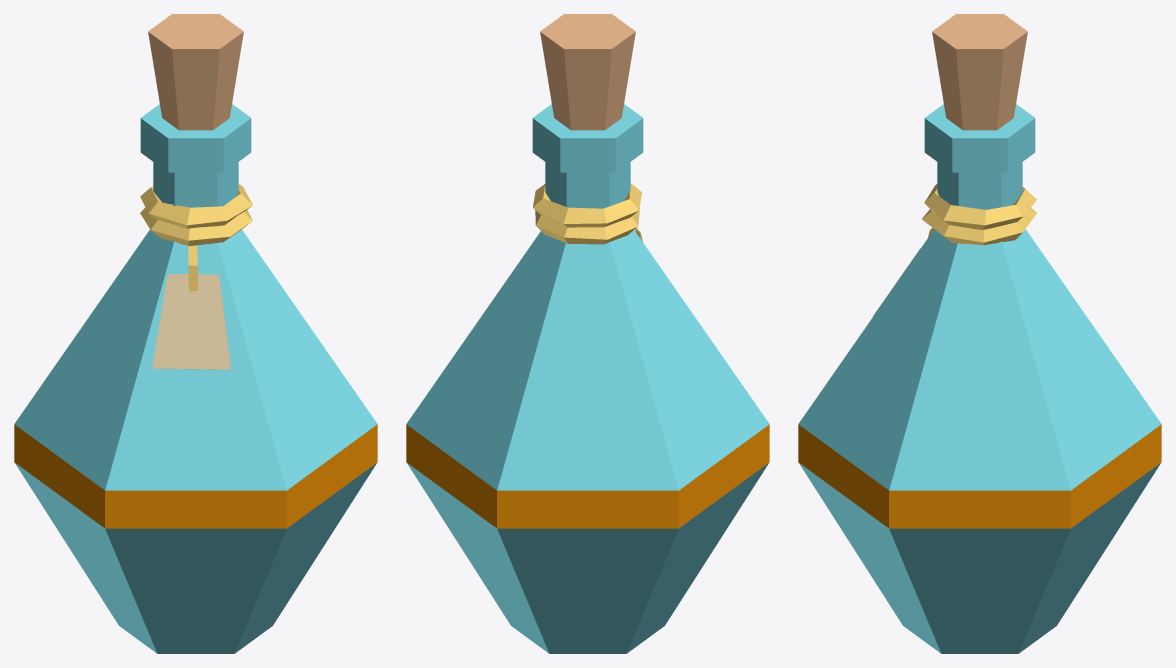
The model's file is Bottle_04.glb.
3 views of the same model, side by side, from view 1: azimuth 30°, elevation 25°; view 2: azimuth 150°, elevation 25°; view 3: azimuth 270°, elevation 25° (orthographic).
Visible parts, largest first — view 1: Bottle_04; view 2: Bottle_04; view 3: Bottle_04.
Part boxes in pixels (x1,y1,x2,y2): Bottle_04: (14, 14, 377, 653); Bottle_04: (406, 14, 769, 653); Bottle_04: (798, 14, 1161, 653).
Size of what is drawn, in the model's own units: 0.2641 by 0.5502 by 0.3049.
Materials: 1 (1 with a texture image).
